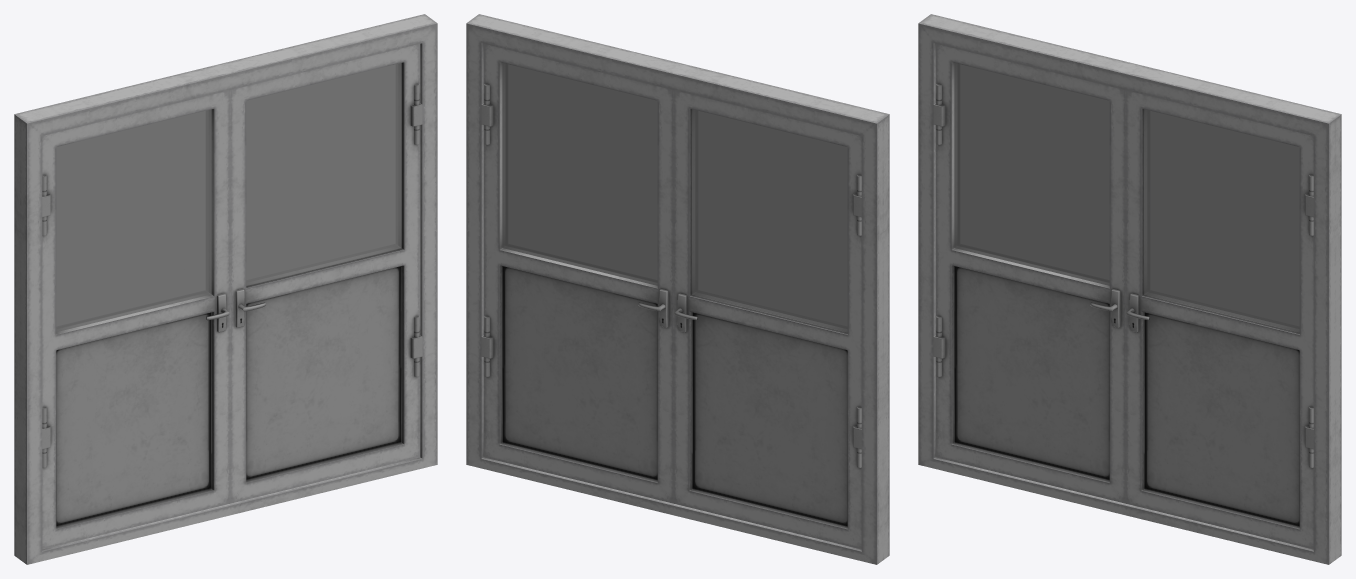
File: Warehouse Office Door 1 B.fbx
3 views of the same model, side by side, from view 1: azimuth 30°, elevation 25°; view 2: azimuth 150°, elevation 25°; view 3: azimuth 330°, elevation 25° (orthographic).
Parts seen in each view (by area): view 1: WH_Office_Door_1_B_Base (×2), WH_Office_Door_1_B_Door_Frame; view 2: WH_Office_Door_1_B_Base (×2), WH_Office_Door_1_B_Door_Frame; view 3: WH_Office_Door_1_B_Base (×2), WH_Office_Door_1_B_Door_Frame.
Part boxes in pixels (<box>): WH_Office_Door_1_B_Base (×2): <box>42,44,422,549</box>; WH_Office_Door_1_B_Door_Frame: <box>14,14,437,564</box>; WH_Office_Door_1_B_Base (×2): <box>481,44,861,549</box>; WH_Office_Door_1_B_Door_Frame: <box>466,14,889,564</box>; WH_Office_Door_1_B_Base (×2): <box>933,44,1313,549</box>; WH_Office_Door_1_B_Door_Frame: <box>918,14,1341,564</box>.
Size of the model in its own units: 214 by 220 by 20.02.
